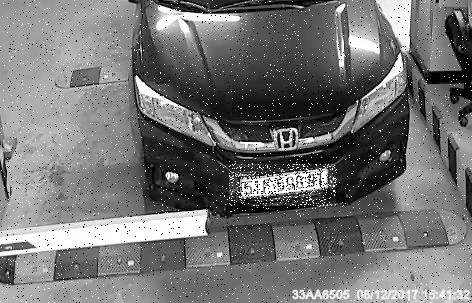License-plate: (231, 165, 339, 207)
